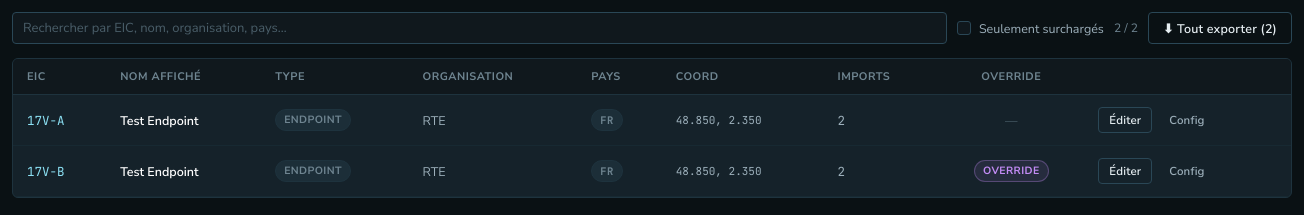
Test: ComponentsAdminTable › filters to overridden only when toggle is checked
Expected: the text "17V-A" is shown, x1=13 y1=94 x2=106 y2=146
Click the checkbox labelled "Seulement surchargés".
click(1030, 28)  # box x1=957 y1=20 x2=1104 y2=36
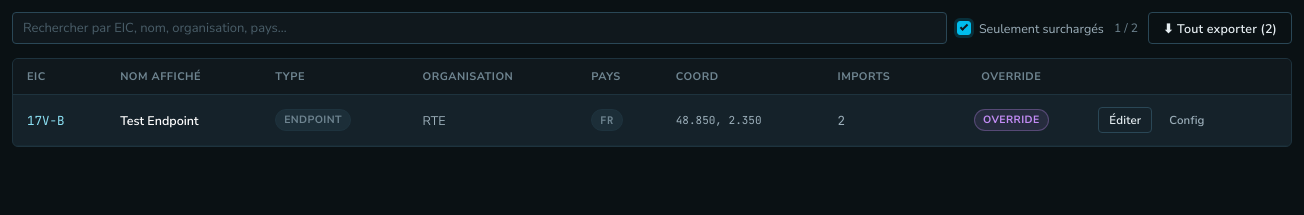
Expected: the text "17V-B" is shown, x1=13 y1=94 x2=106 y2=146
Expected: the text "17V-A" is gone
